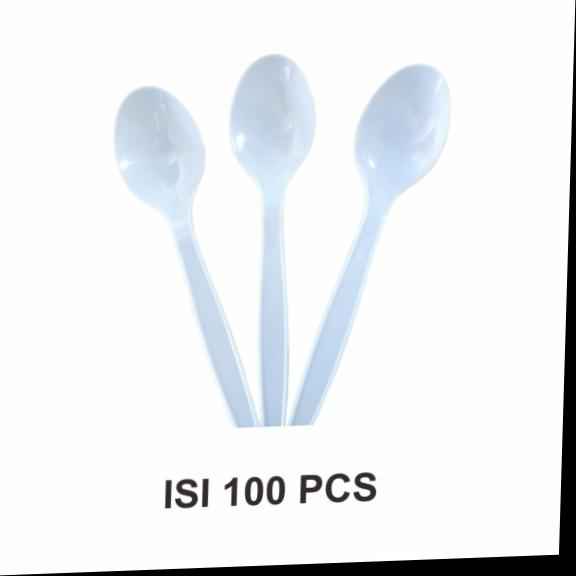Plastik: (290, 65, 450, 425), (115, 87, 258, 427), (230, 56, 315, 426)
